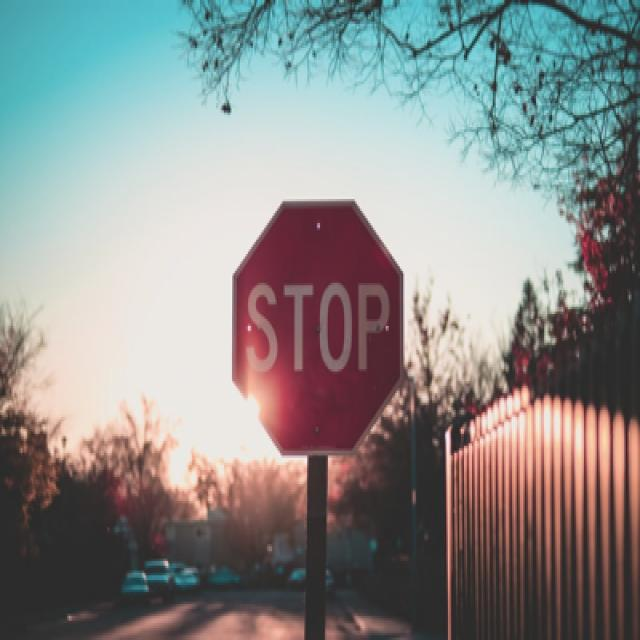stop: (227, 189, 405, 453)
